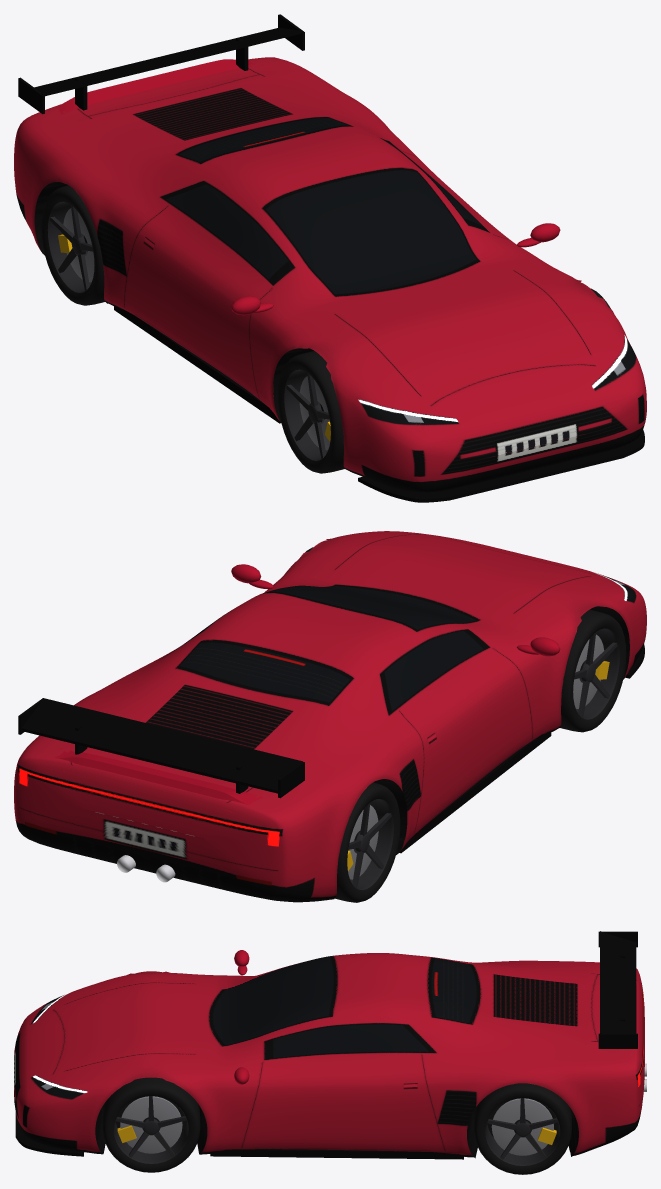
File: car_lastexit.glb
3 views of the same model, one above another, from view 1: azimuth 30°, elevation 25°; view 2: azimuth 150°, elevation 25°; view 3: azimuth 270°, elevation 25° (orthographic). The views are drawn at different scales.
Parts seen in each view (by area): view 1: Body, Wheel_FR, Wheel_RR; view 2: Body, Wheel_FR, Wheel_RR; view 3: Body, Wheel_FL, Wheel_RL.
Part boxes in pixels (box(x1,y1,x2,y2)): Body: box(14, 14, 646, 502); Wheel_FR: box(277, 351, 344, 473); Wheel_RR: box(41, 185, 104, 305); Body: box(14, 531, 646, 902); Wheel_FR: box(560, 609, 626, 732); Wheel_RR: box(335, 782, 400, 902); Body: box(14, 931, 646, 1159); Wheel_FL: box(102, 1077, 200, 1172); Wheel_RL: box(474, 1083, 571, 1174).
Bounding box in the file's own units: 2.17 × 1.1 × 4.52.
Materials: 9 (1 with a texture image).
